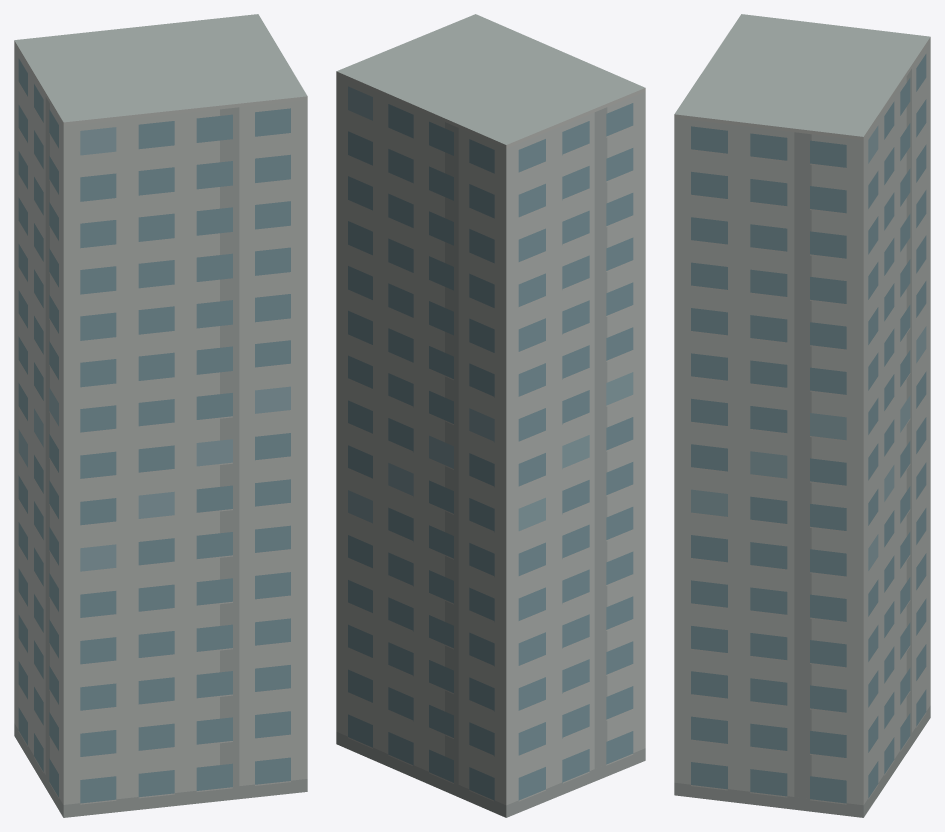
Rendered from residential-2cdc17e3-cf85-47fc-947e-867aafafefa3.glb.
3 renders of one model, left to right at view 1: azimuth 30°, elevation 25°; view 2: azimuth 150°, elevation 25°; view 3: azimuth 270°, elevation 25°, orthographic. The views are drawn at different scales.
Visible parts, largest first — view 1: residential-2cdc17e3-cf85-47fc-947e-867aafafefa3.tmp; view 2: residential-2cdc17e3-cf85-47fc-947e-867aafafefa3.tmp; view 3: residential-2cdc17e3-cf85-47fc-947e-867aafafefa3.tmp.
Part boxes in pixels (x1,y1,x2,y2): residential-2cdc17e3-cf85-47fc-947e-867aafafefa3.tmp: [14, 14, 307, 817]; residential-2cdc17e3-cf85-47fc-947e-867aafafefa3.tmp: [336, 14, 645, 817]; residential-2cdc17e3-cf85-47fc-947e-867aafafefa3.tmp: [674, 14, 930, 817].
Bounding box in the file's own units: 17.81 × 46 × 15.71.
